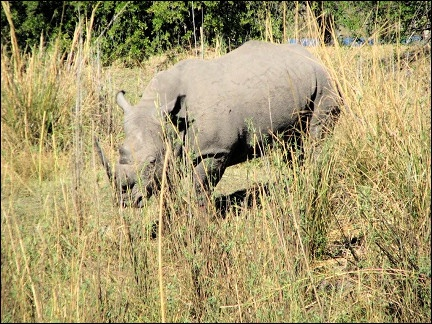rhino: (96, 39, 345, 217)
